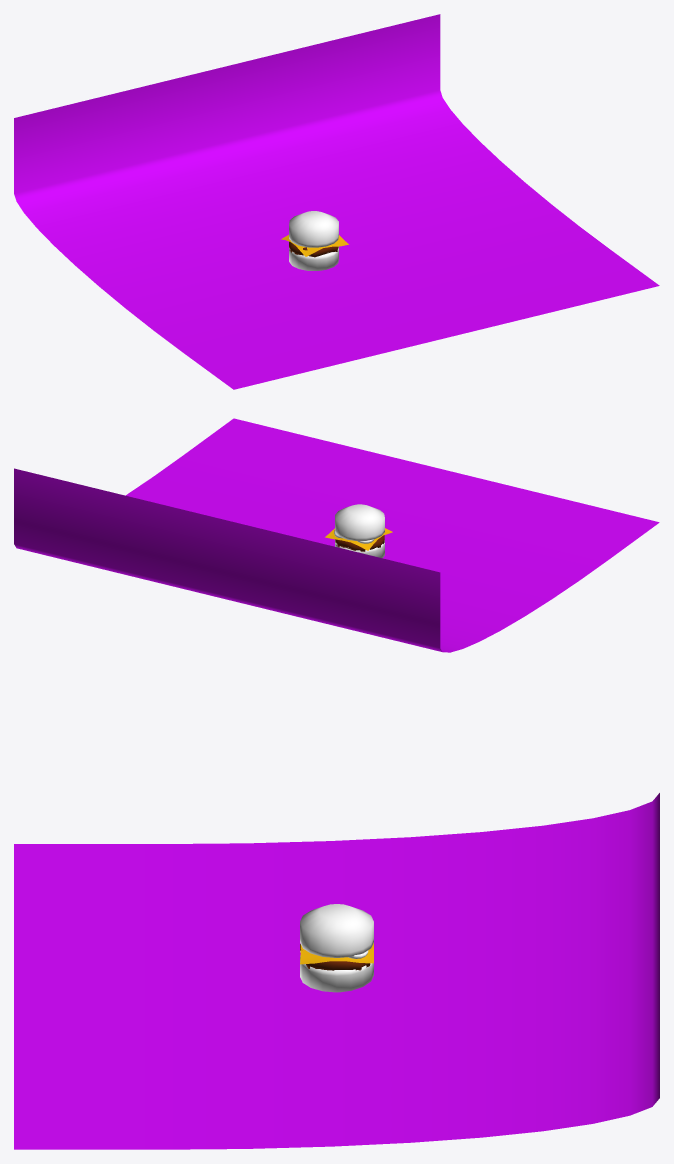
Rendered from burger.glb.
3 renders of one model, top to bottom at view 1: azimuth 30°, elevation 25°; view 2: azimuth 150°, elevation 25°; view 3: azimuth 270°, elevation 25°, orthographic. The views are drawn at different scales.
Visible parts, largest first — view 1: Plane.001, Circle.005, Circle; view 2: Plane.001, Circle.005; view 3: Plane.001, Circle.005, Circle.
Boxes of the visible parts, x1=… form: Plane.001: x1=14, y1=14, x2=659, y2=389; Circle.005: x1=289, y1=211, x2=338, y2=247; Circle: x1=289, y1=247, x2=338, y2=270; Plane.001: x1=14, y1=418, x2=659, y2=652; Circle.005: x1=335, y1=504, x2=384, y2=540; Plane.001: x1=14, y1=793, x2=659, y2=1149; Circle.005: x1=300, y1=904, x2=373, y2=957; Circle: x1=300, y1=955, x2=373, y2=992.
Size of the model in its own units: 19.55 by 4.86 by 17.46.
